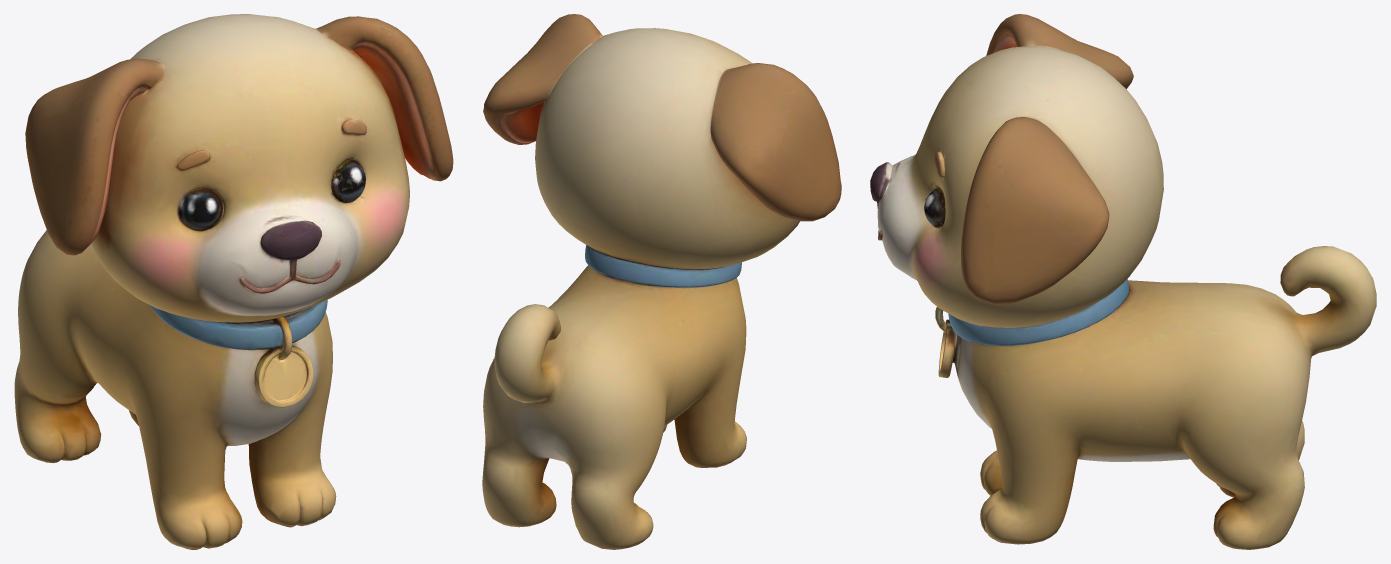
Rendered from pet_dog.glb.
The picture shows the model from 3 angles, left to right: view 1: azimuth 30°, elevation 25°; view 2: azimuth 150°, elevation 25°; view 3: azimuth 270°, elevation 25°; orthographic projection. The views are drawn at different scales.
Parts seen in each view (by area): view 1: node_0; view 2: node_0; view 3: node_0.
Part boxes in pixels (bbox=[...]): node_0: bbox=[14, 14, 453, 549]; node_0: bbox=[482, 14, 841, 549]; node_0: bbox=[870, 14, 1376, 549].
Bounding box in the file's own units: 0.7998 × 0.9969 × 1.01.
Materials: 1 (1 with a texture image).
